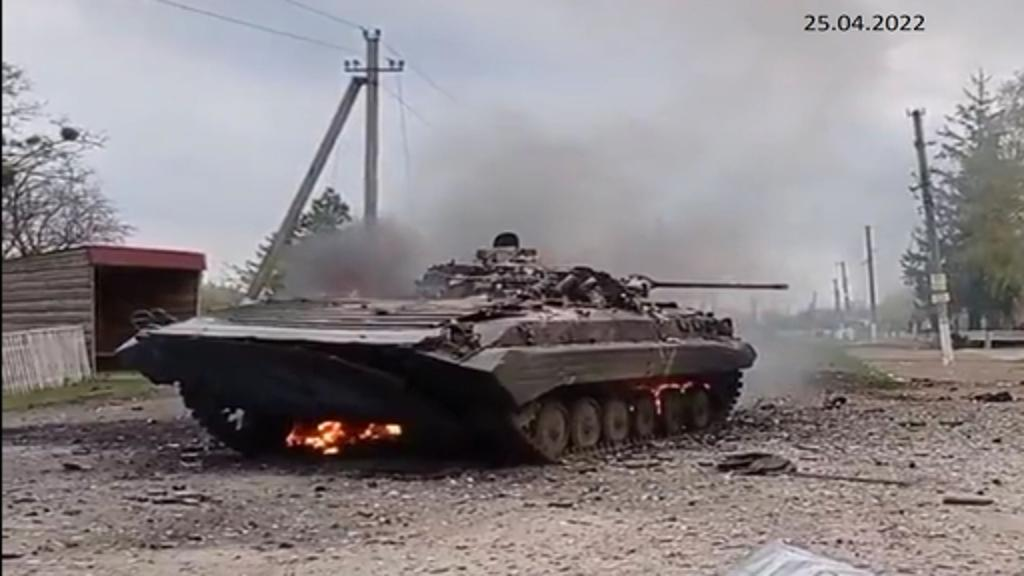APC-IFV: (112, 198, 762, 460)
